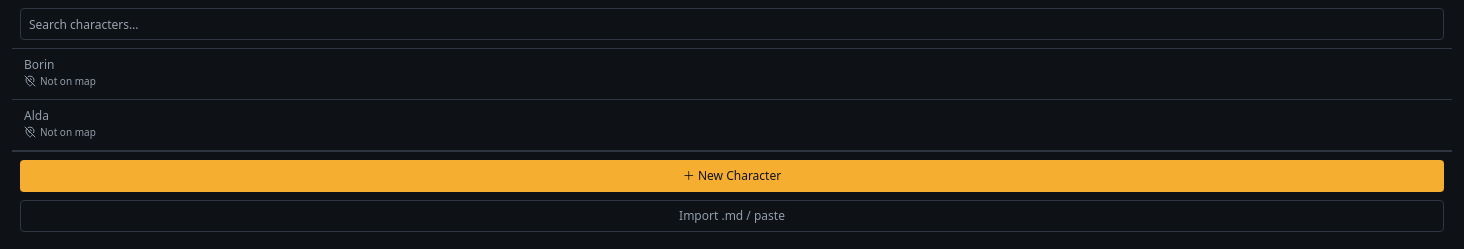
CategoryPanel › filters by the search box
The width and height of the screenshot is (1464, 249).
Type "ald" into the field with placeholder "Search characters…" at (732, 24), box [20, 8, 1444, 40]
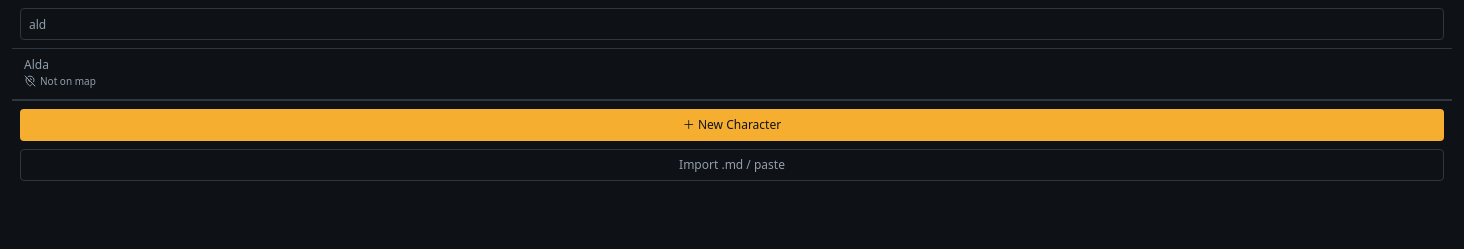
Expected: the text "Alda" is shown, [24, 56, 49, 73]
Result: the button "Borin" is gone
